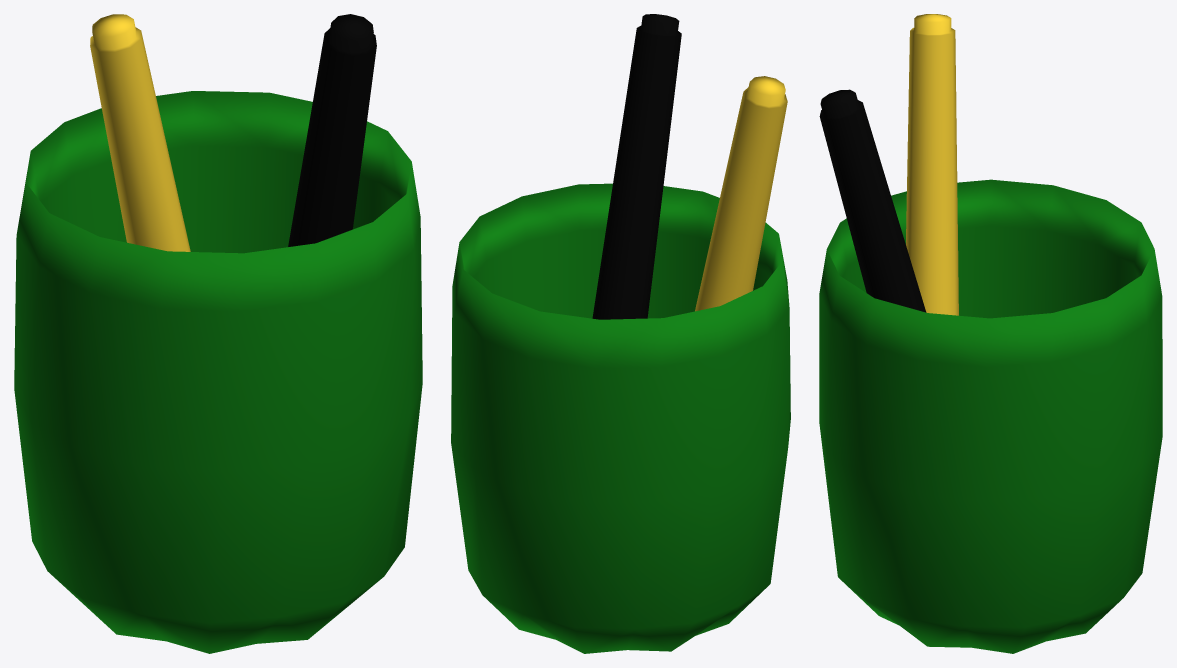
The model's file is SM_Pen.fbx.
3 views of the same model, side by side, from view 1: azimuth 30°, elevation 25°; view 2: azimuth 150°, elevation 25°; view 3: azimuth 270°, elevation 25° (orthographic). The views are drawn at different scales.
Visible parts, largest first — view 1: SM_Pen; view 2: SM_Pen; view 3: SM_Pen.
Part boxes in pixels (x1=…): SM_Pen: x1=14, y1=14, x2=422, y2=653; SM_Pen: x1=451, y1=14, x2=790, y2=653; SM_Pen: x1=819, y1=14, x2=1162, y2=653.
Bounding box in the file's own units: 11.28 × 11.28 × 19.37.
Materials: 1 (1 with a texture image).
